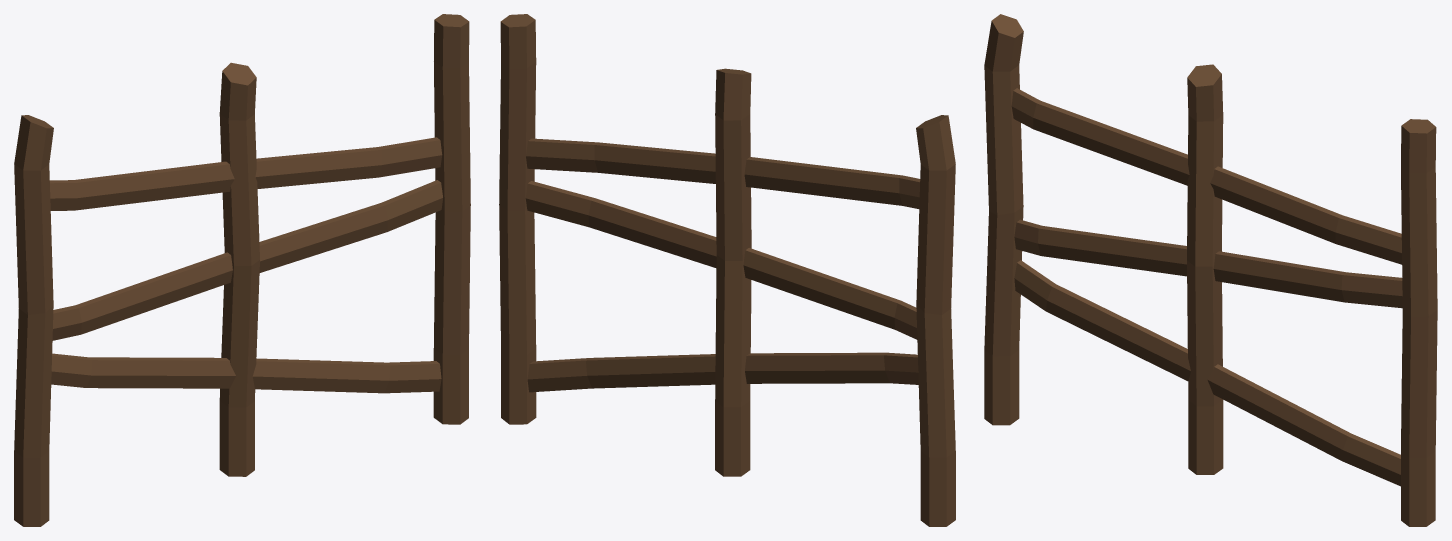
File: fence_2.fbx
The picture shows the model from 3 angles, left to right: view 1: azimuth 30°, elevation 25°; view 2: azimuth 150°, elevation 25°; view 3: azimuth 330°, elevation 25°; orthographic projection.
Parts seen in each view (by area): view 1: Cylinder; view 2: Cylinder; view 3: Cylinder.
Boxes of the visible parts, left/top/right/bottom form: Cylinder: left=14, top=14, right=470, bottom=526; Cylinder: left=499, top=14, right=955, bottom=526; Cylinder: left=984, top=14, right=1437, bottom=526.
Bounding box in the file's own units: 213 × 183 × 17.73.
